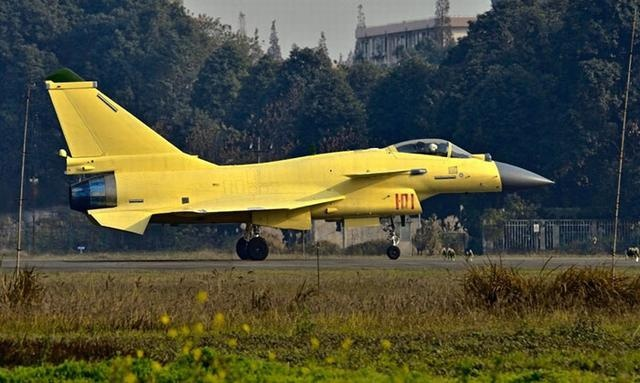otherboat: (41, 87, 554, 256)
